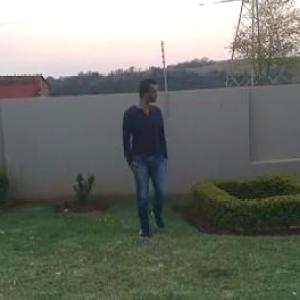follow: (125, 71, 178, 256)
